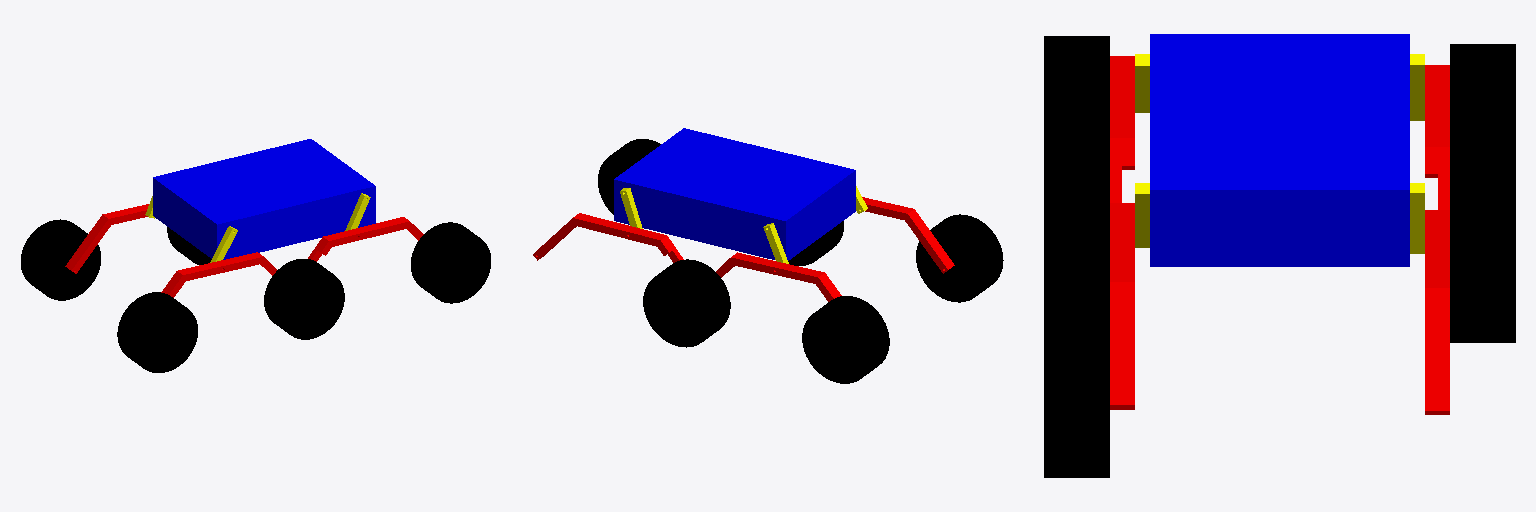
The robot description file, URDF, robot "lsd":
<?xml version="1.0" encoding="utf-8"?>
<!-- This URDF was automatically created by SolidWorks to URDF Exporter! Originally created by [author] ([email redacted]) 
     Commit Version: 1.5.1-0-g916b5db  Build Version: 1.5.7152.31018
     For more information, please see http://wiki.ros.org/sw_urdf_exporter -->
<robot
  name="lsd">

  <gazebo>
    <static>false</static>
  </gazebo>

  
  <link name="dummy"/>

  <link
    name="CH">
    <inertial>
      <origin
        xyz="-1.2577E-06 -4.0479E-21 -6.6109E-05"
        rpy="0 0 0" />
      <mass
        value="19.973" />
      <inertia
        ixx="0.49814"
        ixy="1.0467E-16"
        ixz="1.1843E-05"
        iyy="0.94745"
        iyz="1.5792E-17"
        izz="1.3494" />
    </inertial>
    <visual>
      <origin
        xyz="0 0 0"
        rpy="0 0 0" />
      <geometry>
        <mesh
          filename="package://lsd/models/lsd/meshes/CH.STL" />
      </geometry>
      <material
        name="blue">
        <color
          rgba="0 0 1 1" />
      </material>
    </visual>
    <collision>
      <origin
        xyz="0 0 0"
        rpy="0 0 0" />
      <geometry>
        <mesh
          filename="package://lsd/models/lsd/meshes/CH.STL" />
      </geometry>
    </collision>
  </link>


  <gazebo reference="CH">
    <material>Gazebo/Blue</material>
    <turnGravityOff>false</turnGravityOff>
  </gazebo>


  <joint name="dummy_joint" type="fixed">
   <parent link="dummy"/>
   <child link="CH"/>
 </joint>


  <link
    name="FCL_r">
    <inertial>
      <origin
        xyz="-8.2323E-14 -0.075 0.015"
        rpy="0 0 0" />
      <mass
        value="0.4" />
      <inertia
        ixx="0.00095237"
        ixy="-9.7968E-16"
        ixz="-6.58E-22"
        iyy="6.0874E-05"
        iyz="9.7024E-21"
        izz="0.00095324" />
    </inertial>
    <visual>
      <origin
        xyz="0 0 0"
        rpy="0 0 0" />
      <geometry>
        <mesh
          filename="package://lsd/models/lsd/meshes/FCL_r.STL" />
      </geometry>
      <material
        name="yellow">
        <color
          rgba="1 1 0 1" />
      </material>
    </visual>
    <collision>
      <origin
        xyz="0 0 0"
        rpy="0 0 0" />
      <geometry>
        <mesh
          filename="package://lsd/models/lsd/meshes/FCL_r.STL" />
      </geometry>
    </collision>
  </link>

  <gazebo reference="FCL_r">
    <material>Gazebo/Yellow</material>
    <turnGravityOff>false</turnGravityOff>
  </gazebo>

  <joint
    name="CH_FCL_r"
    type="continuous">
    <origin
      xyz="0.3083 -0.26 0.053926"
      rpy="1.5708 0.45693 0" />
    <parent
      link="CH" />
    <child
      link="FCL_r" />
    <axis
      xyz="0 0 1" />
    <limit
      effort="100"
      velocity="10" />
  </joint>
  
  <link
    name="FB_r">
    <inertial>
      <origin
        xyz="0.0867 -0.045993 0.023367"
        rpy="0 0 0" />
      <mass
        value="2" />
      <inertia
        ixx="0.007584"
        ixy="0.0051798"
        ixz="-0.001033"
        iyy="0.081024"
        iyz="-0.00021378"
        izz="0.087785" />
    </inertial>
    <visual>
      <origin
        xyz="0 0 0"
        rpy="0 0 0" />
      <geometry>
        <mesh
          filename="package://lsd/models/lsd/meshes/FB_r.STL" />
      </geometry>
      <material
        name="red">
        <color
          rgba="1 0 0 1" />
      </material>
    </visual>
    <collision>
      <origin
        xyz="0 0 0"
        rpy="0 0 0" />
      <geometry>
        <mesh
          filename="package://lsd/models/lsd/meshes/FB_r.STL" />
      </geometry>
    </collision>
  </link>

  <gazebo reference="FB_r">
    <material>Gazebo/Red</material>
    <turnGravityOff>false</turnGravityOff>
  </gazebo>


  <joint
    name="FCL_FB_r"
    type="continuous">
    <origin
      xyz="0 -0.15 0.03"
      rpy="0 0 0.45967" />
    <parent
      link="FCL_r" />
    <child
      link="FB_r" />
    <axis
      xyz="0 0 1" />
    <limit
      effort="100"
      velocity="10" />
  </joint>
  <link
    name="FW_r">
    <inertial>
      <origin
        xyz="-5.4734E-14 2.8433E-13 0.065"
        rpy="0 0 0" />
      <mass
        value="2.7" />
      <inertia
        ixx="0.019007"
        ixy="1.1613E-34"
        ixz="0"
        iyy="0.019007"
        iyz="-5.0985E-35"
        izz="0.030409" />
    </inertial>
    <visual>
      <origin
        xyz="0 0 0"
        rpy="0 0 0" />
      <geometry>
        <mesh
          filename="package://lsd/models/lsd/meshes/FW_r.STL" />
      </geometry>
      <material
        name="black">
        <color
          rgba="0 0 0 1" />
      </material>
    </visual>
    <collision>
      <origin
        xyz="0 0 0"
        rpy="0 0 0" />
      <geometry>
        <mesh
          filename="package://lsd/models/lsd/meshes/FW_r.STL" />
      </geometry>
    </collision>
  </link>

  <gazebo reference="FW_r">
    <material>Gazebo/Black</material>
    <turnGravityOff>false</turnGravityOff>
  </gazebo>


  <joint
    name="FB_FW_r"
    type="continuous">
    <origin
      xyz="0.39003 -0.17975 0.05"
      rpy="0 0 -0.0027411" />
    <parent
      link="FB_r" />
    <child
      link="FW_r" />
    <axis
      xyz="0 0 1" />
    <limit
      effort="100"
      velocity="10" />
  </joint>
  <link
    name="RCL_r">
    <inertial>
      <origin
        xyz="2.7756E-16 -0.075 0.015"
        rpy="0 0 0" />
      <mass
        value="0.4" />
      <inertia
        ixx="0.00095237"
        ixy="-1.362E-18"
        ixz="1.9228E-21"
        iyy="6.0874E-05"
        iyz="5.0745E-20"
        izz="0.00095324" />
    </inertial>
    <visual>
      <origin
        xyz="0 0 0"
        rpy="0 0 0" />
      <geometry>
        <mesh
          filename="package://lsd/models/lsd/meshes/RCL_r.STL" />
      </geometry>
      <material
        name="yellow">
        <color
          rgba="1 1 0 1" />
      </material>
    </visual>
    <collision>
      <origin
        xyz="0 0 0"
        rpy="0 0 0" />
      <geometry>
        <mesh
          filename="package://lsd/models/lsd/meshes/RCL_r.STL" />
      </geometry>
    </collision>
  </link>

  <gazebo reference="RCL_r">
    <material>Gazebo/Yellow</material>
    <turnGravityOff>false</turnGravityOff>
  </gazebo>


  <joint
    name="CH_RCL_r"
    type="continuous">
    <origin
      xyz="-0.3063 -0.26 0.0512"
      rpy="1.5708 0.55096 0" />
    <parent
      link="CH" />
    <child
      link="RCL_r" />
    <axis
      xyz="0 0 1" />
    <limit
      effort="100"
      velocity="10" />
  </joint>
  <link
    name="RB_r">
    <inertial>
      <origin
        xyz="-0.036527 -0.045993 0.026633"
        rpy="0 0 0" />
      <mass
        value="2" />
      <inertia
        ixx="0.007584"
        ixy="-0.0051958"
        ixz="-0.0010325"
        iyy="0.081066"
        iyz="0.00021378"
        izz="0.087828" />
    </inertial>
    <visual>
      <origin
        xyz="0 0 0"
        rpy="0 0 0" />
      <geometry>
        <mesh
          filename="package://lsd/models/lsd/meshes/RB_r.STL" />
      </geometry>
      <material
        name="red">
        <color
          rgba="1 0 0 1" />
      </material>
    </visual>
    <collision>
      <origin
        xyz="0 0 0"
        rpy="0 0 0" />
      <geometry>
        <mesh
          filename="package://lsd/models/lsd/meshes/RB_r.STL" />
      </geometry>
    </collision>
  </link>

  <gazebo reference="RB_r">
    <material>Gazebo/Red</material>
    <turnGravityOff>false</turnGravityOff>
  </gazebo>


  <joint
    name="RCL_RB_r"
    type="continuous">
    <origin
      xyz="0 -0.15 0.03"
      rpy="0 0 0.53656" />
    <parent
      link="RCL_r" />
    <child
      link="RB_r" />
    <axis
      xyz="0 0 1" />
    <limit
      effort="100"
      velocity="10" />
  </joint>
  <link
    name="MW_r">
    <inertial>
      <origin
        xyz="-4.9342E-14 -7.9659E-14 0.065"
        rpy="0 0 0" />
      <mass
        value="2.7" />
      <inertia
        ixx="0.019007"
        ixy="-2.7105E-20"
        ixz="-4.3188E-21"
        iyy="0.019007"
        iyz="-1.4349E-24"
        izz="0.030409" />
    </inertial>
    <visual>
      <origin
        xyz="0 0 0"
        rpy="0 0 0" />
      <geometry>
        <mesh
          filename="package://lsd/models/lsd/meshes/MW_r.STL" />
      </geometry>
      <material
        name="black">
        <color
          rgba="0 0 0 1" />
      </material>
    </visual>
    <collision>
      <origin
        xyz="0 0 0"
        rpy="0 0 0" />
      <geometry>
        <mesh
          filename="package://lsd/models/lsd/meshes/MW_r.STL" />
      </geometry>
    </collision>
  </link>

  <gazebo reference="MW_r">
    <material>Gazebo/Black</material>
    <turnGravityOff>false</turnGravityOff>
  </gazebo>



  <joint
    name="RB_MW_r"
    type="continuous">
    <origin
      xyz="0.34003 -0.17975 0.05"
      rpy="0 0 0.019923" />
    <parent
      link="RB_r" />
    <child
      link="MW_r" />
    <axis
      xyz="0 0 1" />
    <limit
      effort="100"
      velocity="10" />
  </joint>
  <link
    name="RW_r">
    <inertial>
      <origin
        xyz="-4.1855E-14 8.7375E-14 0.065"
        rpy="0 0 0" />
      <mass
        value="2.7" />
      <inertia
        ixx="0.019007"
        ixy="1.1613E-34"
        ixz="0"
        iyy="0.019007"
        iyz="-5.0985E-35"
        izz="0.030409" />
    </inertial>
    <visual>
      <origin
        xyz="0 0 0"
        rpy="0 0 0" />
      <geometry>
        <mesh
          filename="package://lsd/models/lsd/meshes/RW_r.STL" />
      </geometry>
      <material
        name="black">
        <color
          rgba="0 0 0 1" />
      </material>
    </visual>
    <collision>
      <origin
        xyz="0 0 0"
        rpy="0 0 0" />
      <geometry>
        <mesh
          filename="package://lsd/models/lsd/meshes/RW_r.STL" />
      </geometry>
    </collision>
  </link>

  <gazebo reference="RW_r">
    <material>Gazebo/Black</material>
    <turnGravityOff>false</turnGravityOff>
  </gazebo>

  <joint
    name="RB_RW_r"
    type="continuous">
    <origin
      xyz="-0.34003 -0.17975 0.05"
      rpy="0 0 0.014396" />
    <parent
      link="RB_r" />
    <child
      link="RW_r" />
    <axis
      xyz="0 0 1" />
    <limit
      effort="100"
      velocity="10" />
  </joint>
  <link
    name="FCL_l">
    <inertial>
      <origin
        xyz="-7.7716E-16 -0.075 -0.015"
        rpy="0 0 0" />
      <mass
        value="0.4" />
      <inertia
        ixx="0.00095237"
        ixy="2.1633E-18"
        ixz="1.1537E-20"
        iyy="6.0874E-05"
        iyz="-3.6651E-21"
        izz="0.00095324" />
    </inertial>
    <visual>
      <origin
        xyz="0 0 0"
        rpy="0 0 0" />
      <geometry>
        <mesh
          filename="package://lsd/models/lsd/meshes/FCL_l.STL" />
      </geometry>
      <material
        name="yellow">
        <color
          rgba="1 1 0 1" />
      </material>
    </visual>
    <collision>
      <origin
        xyz="0 0 0"
        rpy="0 0 0" />
      <geometry>
        <mesh
          filename="package://lsd/models/lsd/meshes/FCL_l.STL" />
      </geometry>
    </collision>
  </link>

  <gazebo reference="FCL_l">
    <material>Gazebo/Yellow</material>
    <turnGravityOff>false</turnGravityOff>
  </gazebo>


  <joint
    name="CH_FCL_l"
    type="continuous">
    <origin
      xyz="0.3083 0.26 0.053926"
      rpy="1.5708 0.33389 0" />
    <parent
      link="CH" />
    <child
      link="FCL_l" />
    <axis
      xyz="0 0 1" />
    <limit
      effort="100"
      velocity="10" />
  </joint>
  <link
    name="FB_l">
    <inertial>
      <origin
        xyz="0.0867 -0.045993 -0.023367"
        rpy="0 0 0" />
      <mass
        value="2" />
      <inertia
        ixx="0.007584"
        ixy="0.0051798"
        ixz="0.001033"
        iyy="0.081024"
        iyz="0.00021378"
        izz="0.087785" />
    </inertial>
    <visual>
      <origin
        xyz="0 0 0"
        rpy="0 0 0" />
      <geometry>
        <mesh
          filename="package://lsd/models/lsd/meshes/FB_l.STL" />
      </geometry>
      <material
        name="red">
        <color
          rgba="1 0 0 1" />
      </material>
    </visual>
    <collision>
      <origin
        xyz="0 0 0"
        rpy="0 0 0" />
      <geometry>
        <mesh
          filename="package://lsd/models/lsd/meshes/FB_l.STL" />
      </geometry>
    </collision>
  </link>

  <gazebo reference="FB_l">
    <material>Gazebo/Red</material>
    <turnGravityOff>false</turnGravityOff>
  </gazebo>


  <joint
    name="FCL_FB_l"
    type="continuous">
    <origin
      xyz="0 -0.15 -0.03"
      rpy="0 0 0.34547" />
    <parent
      link="FCL_l" />
    <child
      link="FB_l" />
    <axis
      xyz="0 0 1" />
    <limit
      effort="100"
      velocity="10" />
  </joint>
  <link
    name="FW_l">
    <inertial>
      <origin
        xyz="-1.1102E-16 5.5511E-17 -0.065"
        rpy="0 0 0" />
      <mass
        value="2.7" />
      <inertia
        ixx="0.019007"
        ixy="1.1613E-34"
        ixz="0"
        iyy="0.019007"
        iyz="-5.0985E-35"
        izz="0.030409" />
    </inertial>
    <visual>
      <origin
        xyz="0 0 0"
        rpy="0 0 0" />
      <geometry>
        <mesh
          filename="package://lsd/models/lsd/meshes/FW_l.STL" />
      </geometry>
      <material
        name="black">
        <color
          rgba="0 0 0 1" />
      </material>
    </visual>
    <collision>
      <origin
        xyz="0 0 0"
        rpy="0 0 0" />
      <geometry>
        <mesh
          filename="package://lsd/models/lsd/meshes/FW_l.STL" />
      </geometry>
    </collision>
  </link>

  <gazebo reference="FW_l">
    <material>Gazebo/Black</material>
    <turnGravityOff>false</turnGravityOff>
  </gazebo>

  <joint
    name="FB_FW_l"
    type="continuous">
    <origin
      xyz="0.39003 -0.17975 -0.05"
      rpy="0 0 -0.011582" />
    <parent
      link="FB_l" />
    <child
      link="FW_l" />
    <axis
      xyz="0 0 1" />
    <limit
      effort="100"
      velocity="10" />
  </joint>
  <link
    name="RCL_l">
    <inertial>
      <origin
        xyz="4.4409E-16 -0.075 -0.015"
        rpy="0 0 0" />
      <mass
        value="0.4" />
      <inertia
        ixx="0.00095237"
        ixy="1.7652E-18"
        ixz="-8.7287E-21"
        iyy="6.0874E-05"
        iyz="6.7752E-21"
        izz="0.00095324" />
    </inertial>
    <visual>
      <origin
        xyz="0 0 0"
        rpy="0 0 0" />
      <geometry>
        <mesh
          filename="package://lsd/models/lsd/meshes/RCL_l.STL" />
      </geometry>
      <material
        name="yellow">
        <color
          rgba="1 1 0 1" />
      </material>
    </visual>
    <collision>
      <origin
        xyz="0 0 0"
        rpy="0 0 0" />
      <geometry>
        <mesh
          filename="package://lsd/models/lsd/meshes/RCL_l.STL" />
      </geometry>
    </collision>
  </link>

  <gazebo reference="RCL_l">
    <material>Gazebo/Yellow</material>
    <turnGravityOff>false</turnGravityOff>
  </gazebo>

  <joint
    name="CH_RCL_l"
    type="continuous">
    <origin
      xyz="-0.3063 0.26 0.0512"
      rpy="1.5708 0.41096 0" />
    <parent
      link="CH" />
    <child
      link="RCL_l" />
    <axis
      xyz="0 0 1" />
    <limit
      effort="100"
      velocity="10" />
  </joint>
  <link
    name="RB_l">
    <inertial>
      <origin
        xyz="-0.036527 -0.045993 -0.026633"
        rpy="0 0 0" />
      <mass
        value="2" />
      <inertia
        ixx="0.007584"
        ixy="-0.0051958"
        ixz="0.0010325"
        iyy="0.081066"
        iyz="-0.00021378"
        izz="0.087828" />
    </inertial>
    <visual>
      <origin
        xyz="0 0 0"
        rpy="0 0 0" />
      <geometry>
        <mesh
          filename="package://lsd/models/lsd/meshes/RB_l.STL" />
      </geometry>
      <material
        name="red">
        <color
          rgba="1 0 0 1" />
      </material>
    </visual>
    <collision>
      <origin
        xyz="0 0 0"
        rpy="0 0 0" />
      <geometry>
        <mesh
          filename="package://lsd/models/lsd/meshes/RB_l.STL" />
      </geometry>
    </collision>
  </link>

  <gazebo reference="RB_l">
    <material>Gazebo/Red</material>
    <turnGravityOff>false</turnGravityOff>
  </gazebo>

  <joint
    name="RCL_RB_l"
    type="continuous">
    <origin
      xyz="0 -0.15 -0.03"
      rpy="0 0 0.39671" />
    <parent
      link="RCL_l" />
    <child
      link="RB_l" />
    <axis
      xyz="0 0 1" />
    <limit
      effort="100"
      velocity="10" />
  </joint>
  <link
    name="MW_l">
    <inertial>
      <origin
        xyz="-3.4694E-18 5.5511E-17 -0.065"
        rpy="0 0 0" />
      <mass
        value="2.7" />
      <inertia
        ixx="0.019007"
        ixy="1.1613E-34"
        ixz="0"
        iyy="0.019007"
        iyz="-5.0985E-35"
        izz="0.030409" />
    </inertial>
    <visual>
      <origin
        xyz="0 0 0"
        rpy="0 0 0" />
      <geometry>
        <mesh
          filename="package://lsd/models/lsd/meshes/MW_l.STL" />
      </geometry>
      <material
        name="black">
        <color
          rgba="0 0 0 1" />
      </material>
    </visual>
    <collision>
      <origin
        xyz="0 0 0"
          filename="package://lsd/models/lsd/meshes/RB_r.STL" />
        rpy="0 0 0" />
      <geometry>
        <mesh
          filename="package://lsd/models/lsd/meshes/MW_l.STL" />
      </geometry>
    </collision>
  </link>

  <gazebo reference="MW_l">
    <material>Gazebo/Black</material>
    <turnGravityOff>false</turnGravityOff>
  </gazebo>

  <joint
    name="RB_MW_l"
    type="continuous">
    <origin
      xyz="0.34003 -0.17975 -0.05"
      rpy="0 0 0.014249" />
    <parent
      link="RB_l" />
    <child
      link="MW_l" />
    <axis
      xyz="0 0 1" />
    <limit
      effort="100"
      velocity="10" />
  </joint>
  <link
    name="RW_l">
    <inertial>
      <origin
        xyz="0 0 -0.065"
        rpy="0 0 0" />
      <mass
        value="2.7" />
      <inertia
        ixx="0.019007"
        ixy="1.1613E-34"
        ixz="0"
        iyy="0.019007"
        iyz="-5.0985E-35"
        izz="0.030409" />
    </inertial>
    <visual>
      <origin
        xyz="0 0 0"
        rpy="0 0 0" />
      <geometry>
        <mesh
          filename="package://lsd/models/lsd/meshes/RW_l.STL" />
      </geometry>
      <material
        name="black">
        <color
          rgba="0 0 0 1" />
      </material>
    </visual>
    <collision>
      <origin
        xyz="0 0 0"
        rpy="0 0 0" />
      <geometry>
        <mesh
          filename="package://lsd/models/lsd/meshes/RW_l.STL" />
      </geometry>
    </collision>
  </link>

  <gazebo reference="RW_l">
    <material>Gazebo/Black</material>
    <turnGravityOff>false</turnGravityOff>
  </gazebo>

  <joint
    name="RB_RW_l"
    type="continuous">
    <origin
      xyz="-0.34003 -0.17975 -0.05"
      rpy="0 0 0.014249" />
    <parent
      link="RB_l" />
    <child
      link="RW_l" />
    <axis
      xyz="0 0 1" />
    <limit
      effort="100"
      velocity="10" />
  </joint>

<!-- Attach ROS Controllers -->

<transmission name="front_left_transmission">
  <type>transmission_interface/SimpleTransmission</type>
  <joint name="CH_FCL_l">
    <hardwareInterface>hardware_interface/EffortJointInterface</hardwareInterface>
  </joint>
  <actuator name="front_left_motor">
    <hardwareInterface>hardware_interface/EffortJointInterface</hardwareInterface>
    <mechanicalReduction>1</mechanicalReduction>
  </actuator>
</transmission>

<transmission name="front_right_transmission">
  <type>transmission_interface/SimpleTransmission</type>
  <joint name="CH_FCL_r">
    <hardwareInterface>hardware_interface/EffortJointInterface</hardwareInterface>
  </joint>
  <actuator name="front_right_motor">
    <hardwareInterface>hardware_interface/EffortJointInterface</hardwareInterface>
    <mechanicalReduction>1</mechanicalReduction>
  </actuator>
</transmission>

<transmission name="back_left_transmission">
  <type>transmission_interface/SimpleTransmission</type>
  <joint name="CH_RCL_l">
    <hardwareInterface>hardware_interface/EffortJointInterface</hardwareInterface>
  </joint>
  <actuator name="back_left_motor">
    <hardwareInterface>hardware_interface/EffortJointInterface</hardwareInterface>
    <mechanicalReduction>1</mechanicalReduction>
  </actuator>
</transmission>

<transmission name="back_right_transmission">
  <type>transmission_interface/SimpleTransmission</type>
  <joint name="CH_RCL_r">
    <hardwareInterface>hardware_interface/EffortJointInterface</hardwareInterface>
  </joint>
  <actuator name="back_right_motor">
    <hardwareInterface>hardware_interface/EffortJointInterface</hardwareInterface>
    <mechanicalReduction>1</mechanicalReduction>
  </actuator>
</transmission>


</robot>

--- Render facts (derived) ---
The picture shows the robot from 3 angles, left to right: view 1: azimuth 30°, elevation 25°; view 2: azimuth 150°, elevation 25°; view 3: azimuth 270°, elevation 25°; orthographic projection.
Robot: lsd — 16 links, 15 joints (14 continuous, 1 fixed); root link dummy; default pose: all joints at 0.
Links seen in each view (by area): view 1: CH, MW_r, RW_r, FW_r, RW_l, RB_r, FB_r, RB_l, MW_l; view 2: CH, RW_l, MW_l, RW_r, FB_l, RB_l, FW_r, RB_r, MW_r; view 3: CH, FW_r, MW_l, RW_l, RW_r, MW_r, FB_r, FB_l, RB_r, RB_l, FCL_l, RCL_l (+2 smaller).
Boxes of the visible links, x1,y1,x2,y2 form: CH: (153,139,375,259); MW_r: (264,259,344,339); RW_r: (117,292,197,372); FW_r: (411,222,490,303); RW_l: (21,219,100,300); RB_r: (161,252,276,297); FB_r: (308,217,423,261); RB_l: (65,204,148,273); MW_l: (167,227,211,264); CH: (614,128,855,260); RW_l: (802,296,889,383); MW_l: (643,259,730,347); RW_r: (916,214,1003,302); FB_l: (533,213,683,262); RB_l: (716,252,841,301); FW_r: (598,139,660,214); RB_r: (862,197,954,273); MW_r: (788,221,843,265); CH: (1150,34,1409,266); FW_r: (1044,327,1109,477); MW_l: (1450,193,1515,342); RW_l: (1450,44,1515,192); RW_r: (1044,36,1109,183); MW_r: (1044,184,1109,326); FB_r: (1110,203,1134,409); FB_l: (1425,210,1449,414); RB_r: (1110,56,1134,202); RB_l: (1425,65,1449,209); FCL_l: (1410,183,1424,253); RCL_l: (1410,54,1424,120).
Size in the robot's own frame: 1.66 by 0.94 by 0.5054 metres.
14 mesh visuals loaded from 15 distinct referenced files (14 binary STL); not drawn: 1 (reference not matched to a file when rendering).